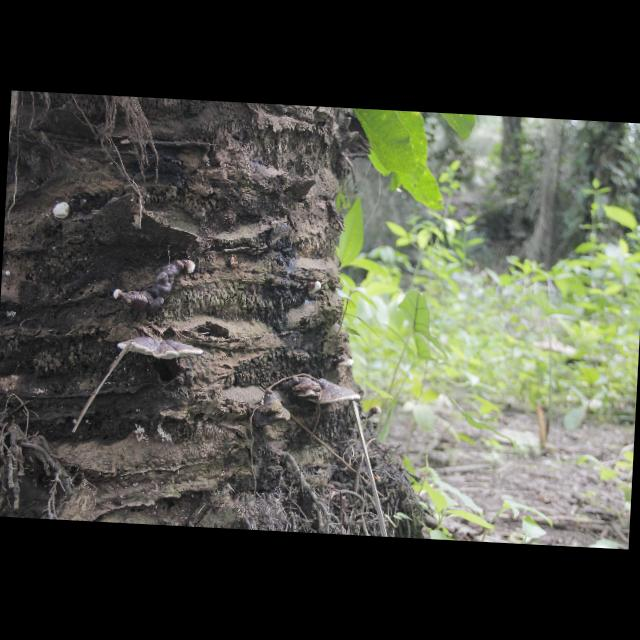ganoderma: (122, 258, 181, 315), (118, 336, 205, 364), (308, 380, 363, 409), (283, 376, 324, 399), (333, 357, 356, 369)
primordium: (53, 203, 72, 221), (305, 281, 322, 297), (181, 260, 196, 277), (370, 407, 383, 418), (114, 290, 125, 302), (6, 271, 13, 279)
